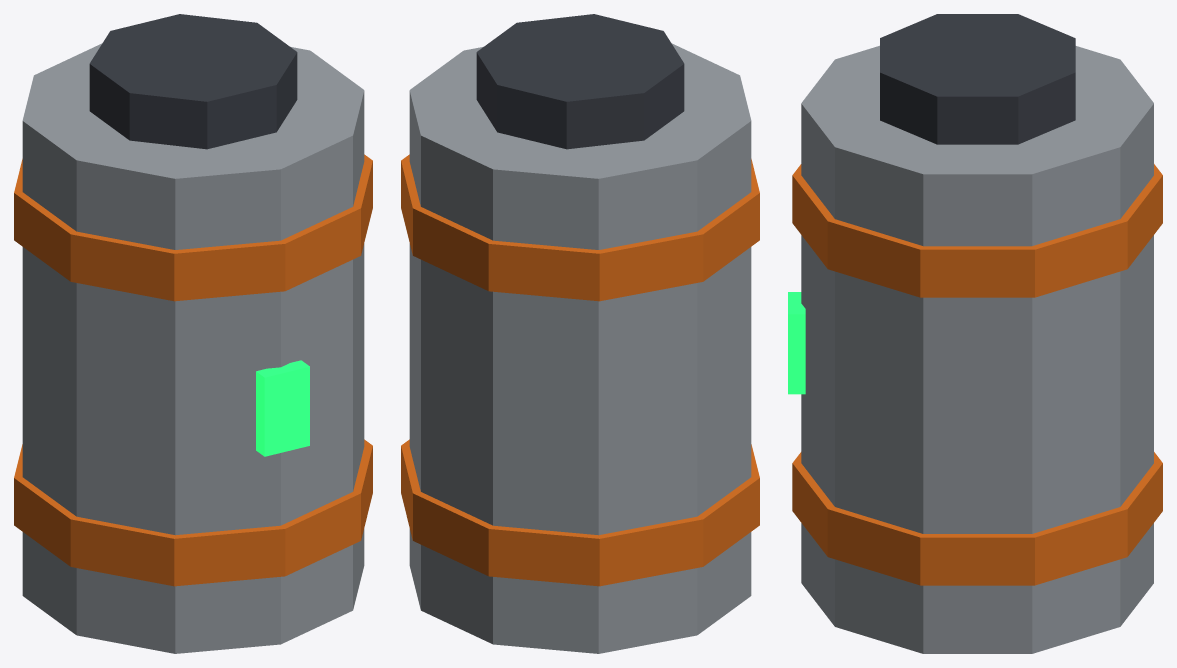
File: canister.glb
The picture shows the model from 3 angles, left to right: view 1: azimuth 30°, elevation 25°; view 2: azimuth 150°, elevation 25°; view 3: azimuth 270°, elevation 25°; orthographic projection.
Visible parts, largest first — view 1: canister; view 2: canister; view 3: canister.
Boxes of the visible parts, x1,y1,x2,y2 form: canister: [14, 14, 372, 653]; canister: [401, 14, 759, 653]; canister: [788, 14, 1162, 653].
Bounding box in the file's own units: 0.3994 × 0.66 × 0.425.
